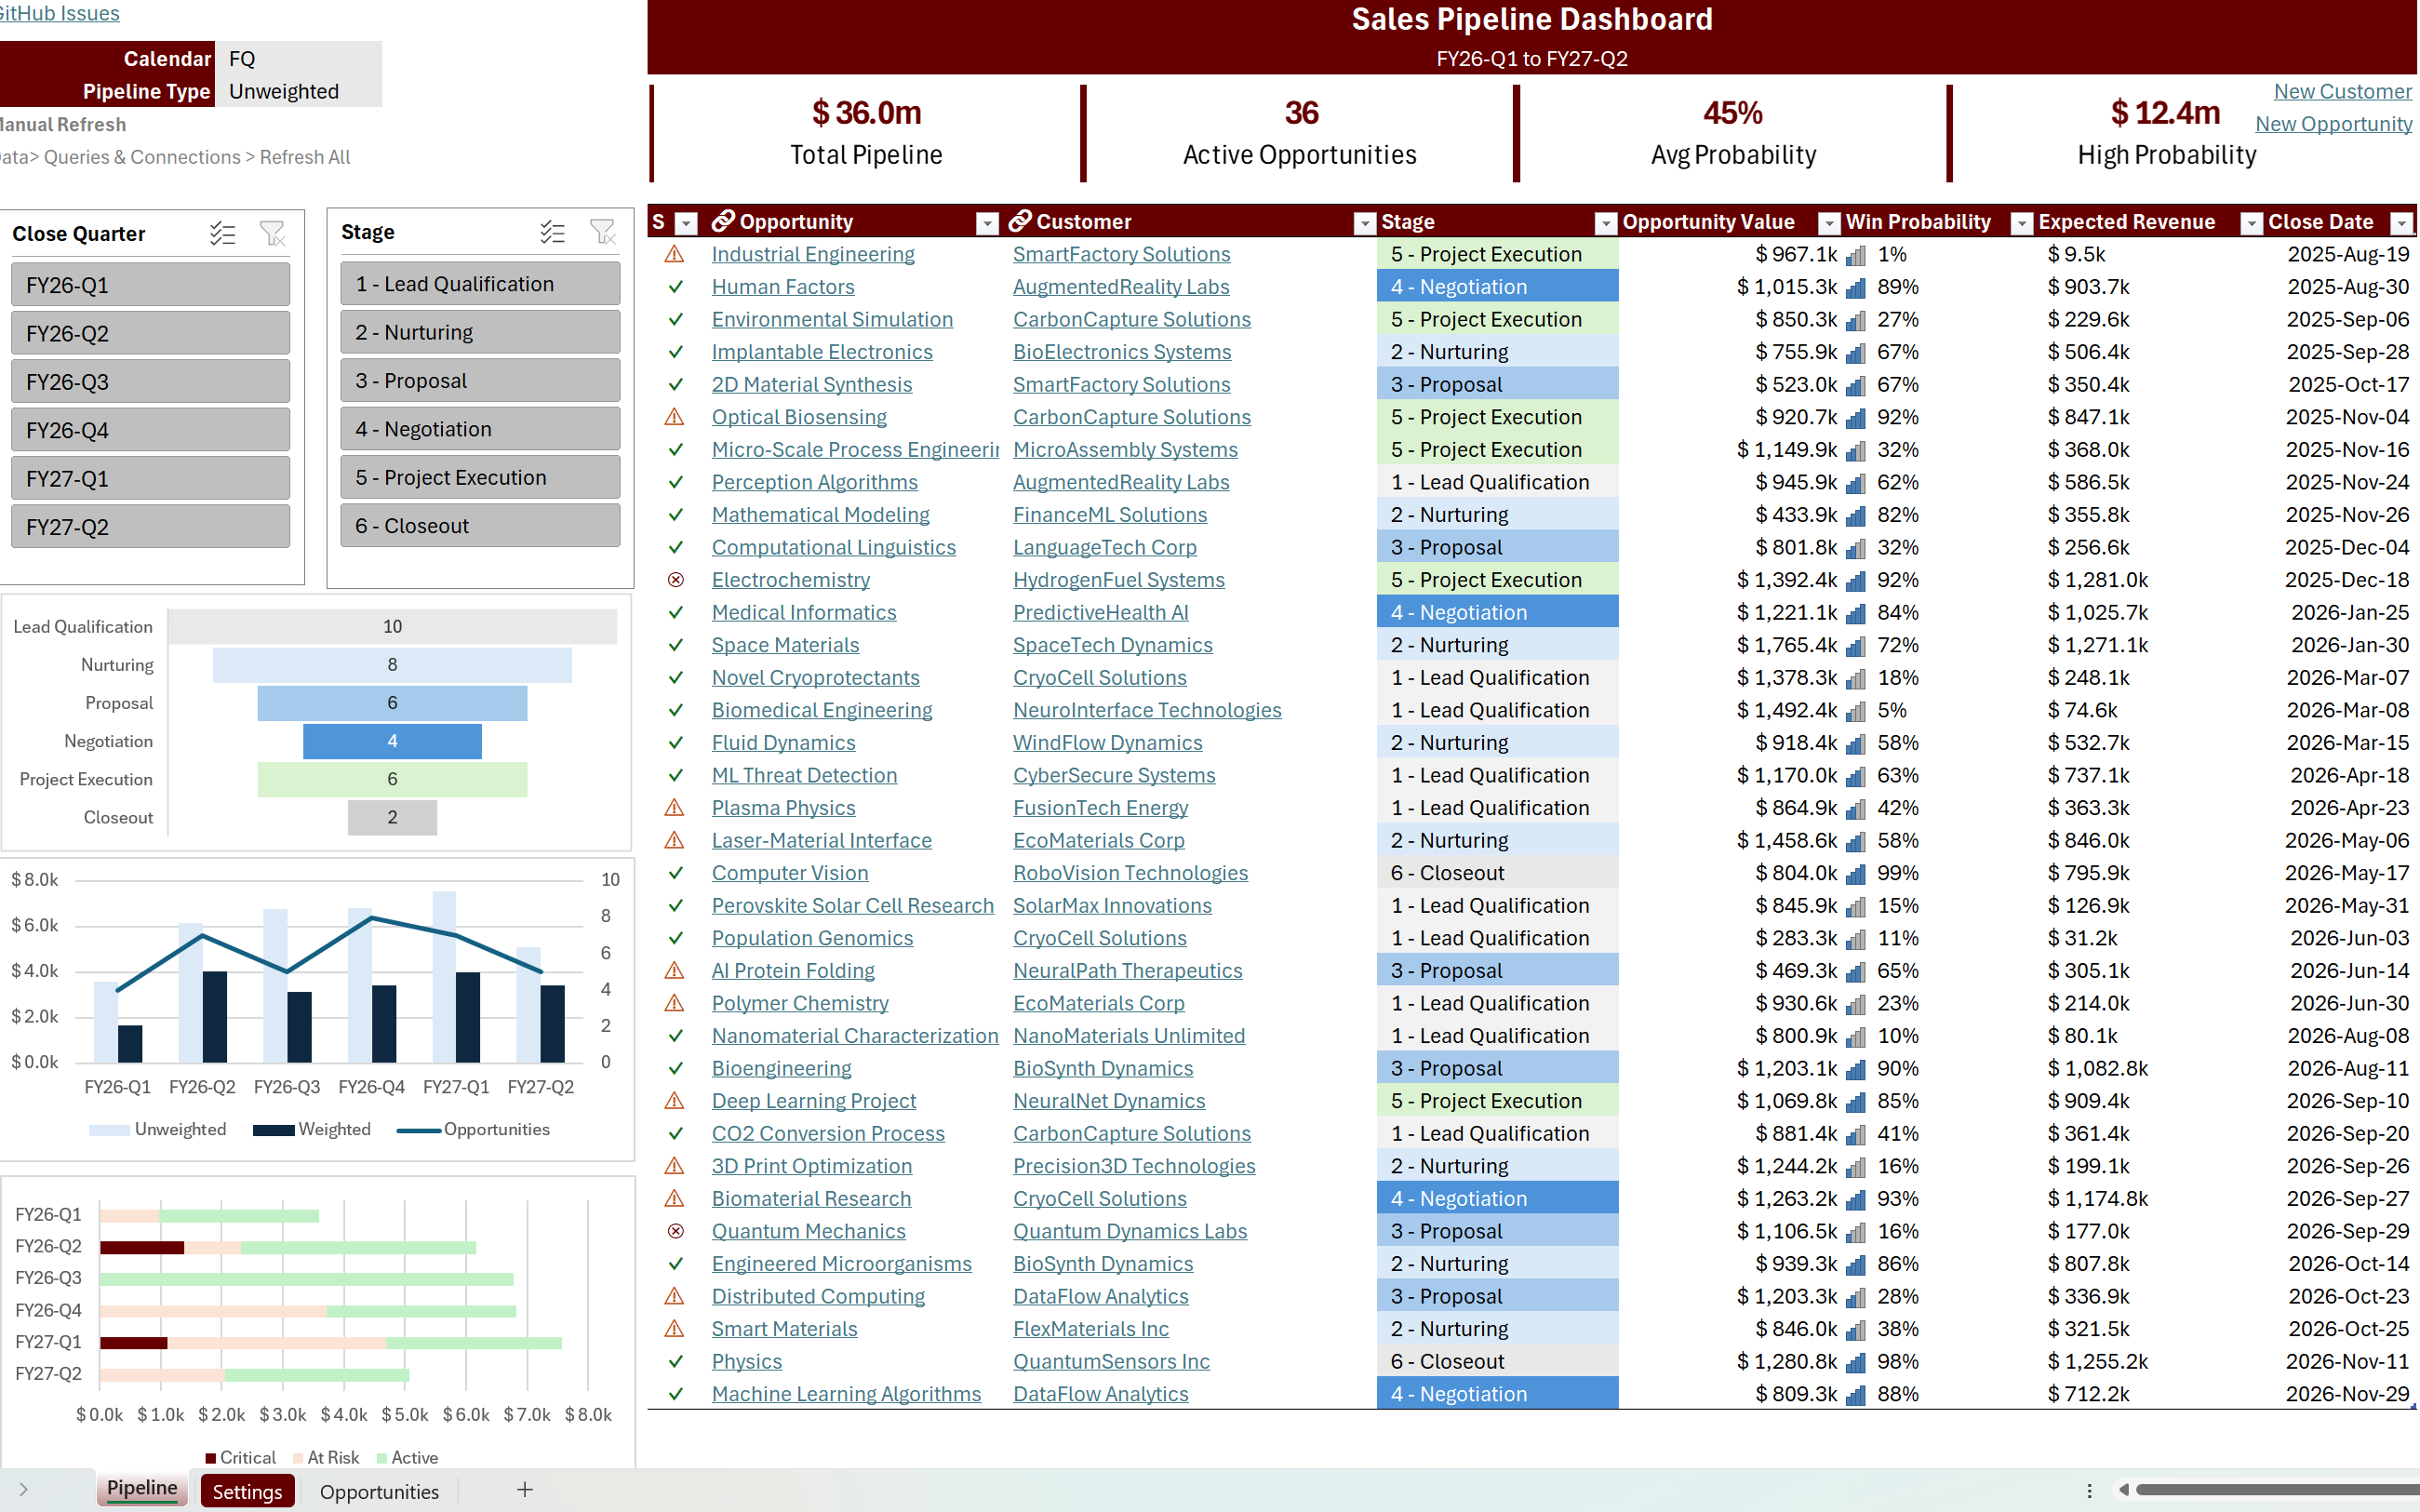

Layout of this report page (visuals, bound fields, positions):
{"tool":"powerbi","page":{"name":"Page 1","canvas":[1280,720],"ordinal":0},"visuals":[{"type":"tableEx","fields":{"Values":["opportunities.OpportunityName","customers.Customer Name","Stage.Display","Sum(opportunities.Amount)","opportunities.Probability","Sum(opportunities.Expected Value)","opportunities.Close"]},"box":[450.1,145.5,771.7,574.7],"z":0},{"type":"slicer","fields":{"Values":["opportunities.FQ"]},"box":[0,98.7,200,150],"z":1000},{"type":"slicer","fields":{"Values":["Stage.Display"]},"box":[189.6,98.7,200,150],"z":2000},{"type":"funnel","fields":{"Y":["opportunities.opportunities"],"Category":["Stage.Stage Name"]},"box":[0,259,436.8,159.6],"z":3000},{"type":"lineClusteredColumnComboChart","fields":{"Y":["Sum(opportunities.Amount)","Sum(opportunities.Expected Value)"],"Y2":["opportunities.opportunities"],"Category":["FQ_Summary.FQ"]},"box":[0,470.8,436.8,226.9],"z":4000},{"type":"textbox","box":[449.9,13.1,771.7,69.3],"z":5000},{"type":"multiRowCard","fields":{"Values":["opportunities.Total Pipeline","opportunities.opportunities","opportunities.Avg Probability","opportunities.High Probability"]},"box":[449.9,89.6,731.1,55.6],"z":6000},{"type":"actionButton","box":[7.6,13.5,125.2,45],"z":7000},{"type":"actionButton","box":[138.9,13.5,125.2,45],"z":8000}]}

Visuals, with their boxes on the page's 1280x720 design canvas (x1, y1, x2, y2). These are canvas units, not pixel positions in the 2420x1512 screenshot, which may show the page scaled, cropped or inside an application window:
tableEx - opportunities.OpportunityName x customers.Customer Name: (left=450, top=146, right=1222, bottom=720)
slicer - opportunities.FQ: (left=0, top=99, right=200, bottom=249)
slicer - Stage.Display: (left=190, top=99, right=390, bottom=249)
funnel - opportunities.opportunities x Stage.Stage Name: (left=0, top=259, right=437, bottom=419)
lineClusteredColumnComboChart - Sum(opportunities.Amount) x Sum(opportunities.Expected Value): (left=0, top=471, right=437, bottom=698)
textbox: (left=450, top=13, right=1222, bottom=82)
multiRowCard - opportunities.Total Pipeline x opportunities.opportunities: (left=450, top=90, right=1181, bottom=145)
actionButton: (left=8, top=14, right=133, bottom=58)
actionButton: (left=139, top=14, right=264, bottom=58)
